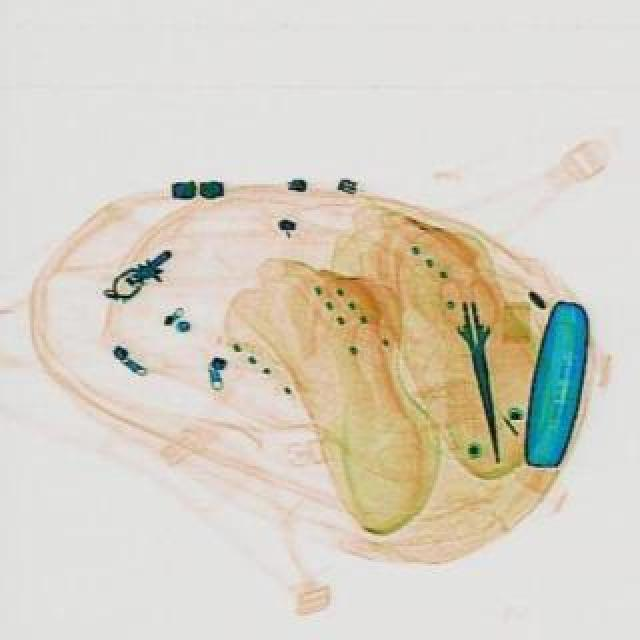knife: (450, 298, 514, 464)
